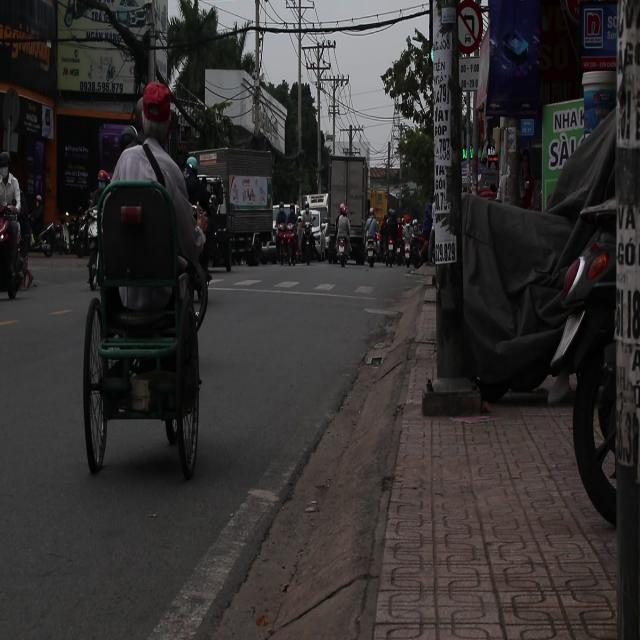motorbike: (0, 206, 28, 299), (52, 211, 92, 256), (38, 214, 74, 256), (73, 208, 99, 258)
truck: (188, 150, 276, 271), (303, 194, 331, 241)
